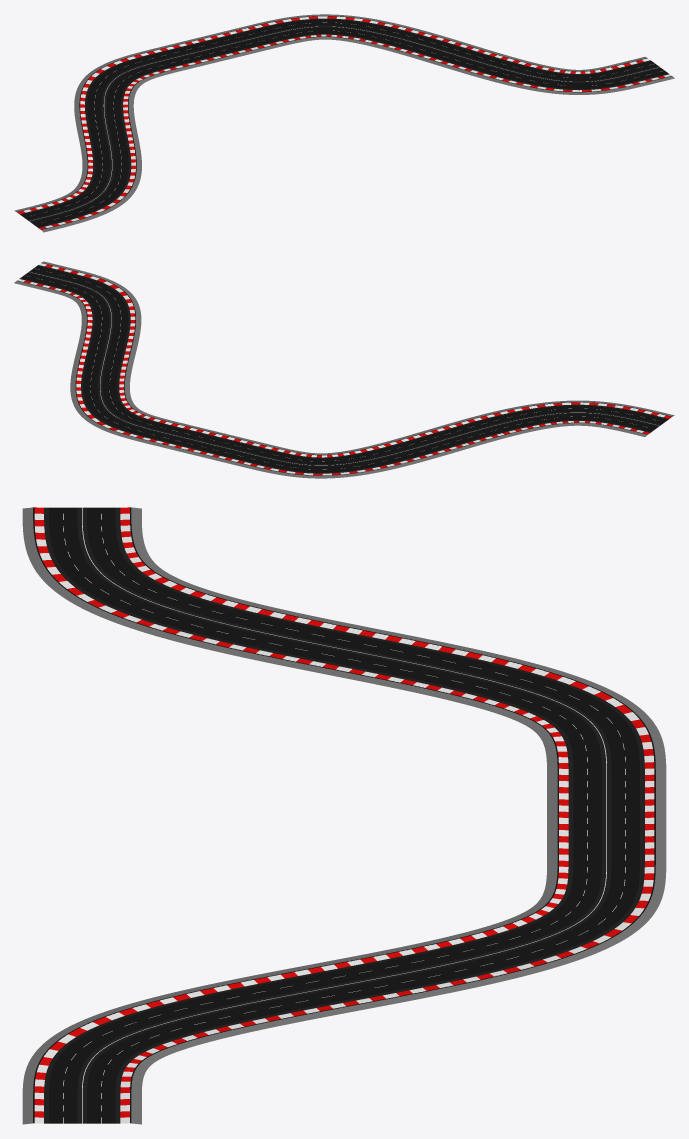
File: S0.1c1-Pie1.glb
3 views of the same model, one above another, from view 1: azimuth 30°, elevation 25°; view 2: azimuth 150°, elevation 25°; view 3: azimuth 270°, elevation 25° (orthographic). The views are drawn at different scales.
Visible parts, largest first — view 1: Grid; view 2: Grid; view 3: Grid.
Part boxes in pixels (bbox=[...]): Grid: bbox=[14, 14, 674, 232]; Grid: bbox=[14, 261, 674, 478]; Grid: bbox=[22, 507, 666, 1124].
Bounding box in the file's own units: 306 × 0.31 × 135.
